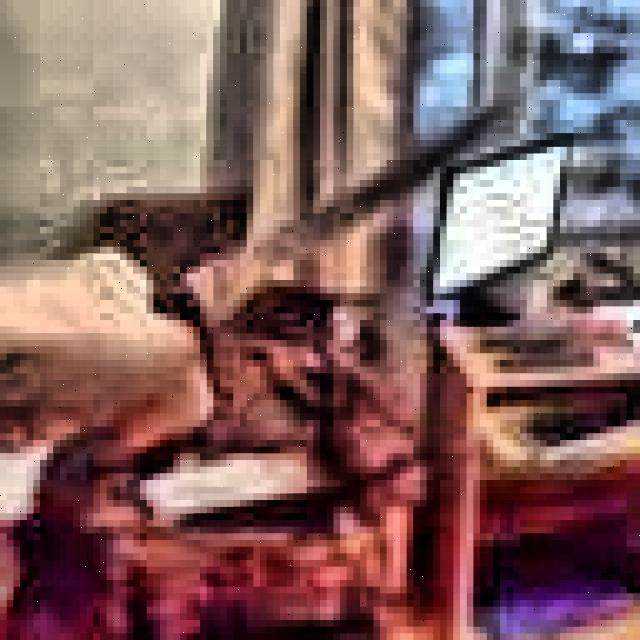knife: (157, 106, 508, 331)
